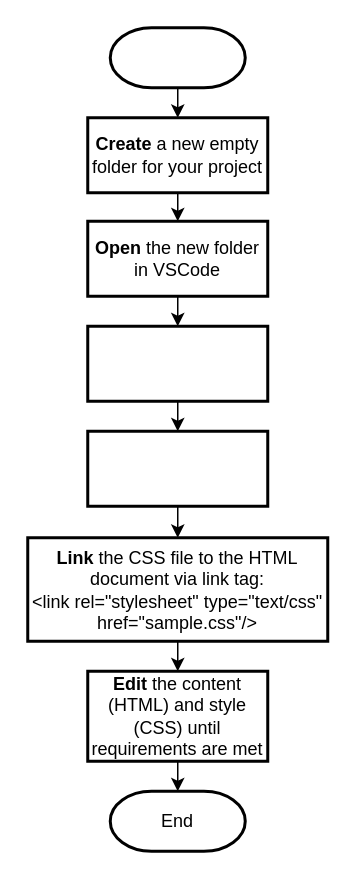
Image size: 354x878. Some labels were removed from this diagram. Each missing label, with the centre of its shape:
"Add and edit a new CSS file" goes at (177,468).
"Add and edit a new HTML file" goes at (177,363).
"Start" goes at (177,57).
